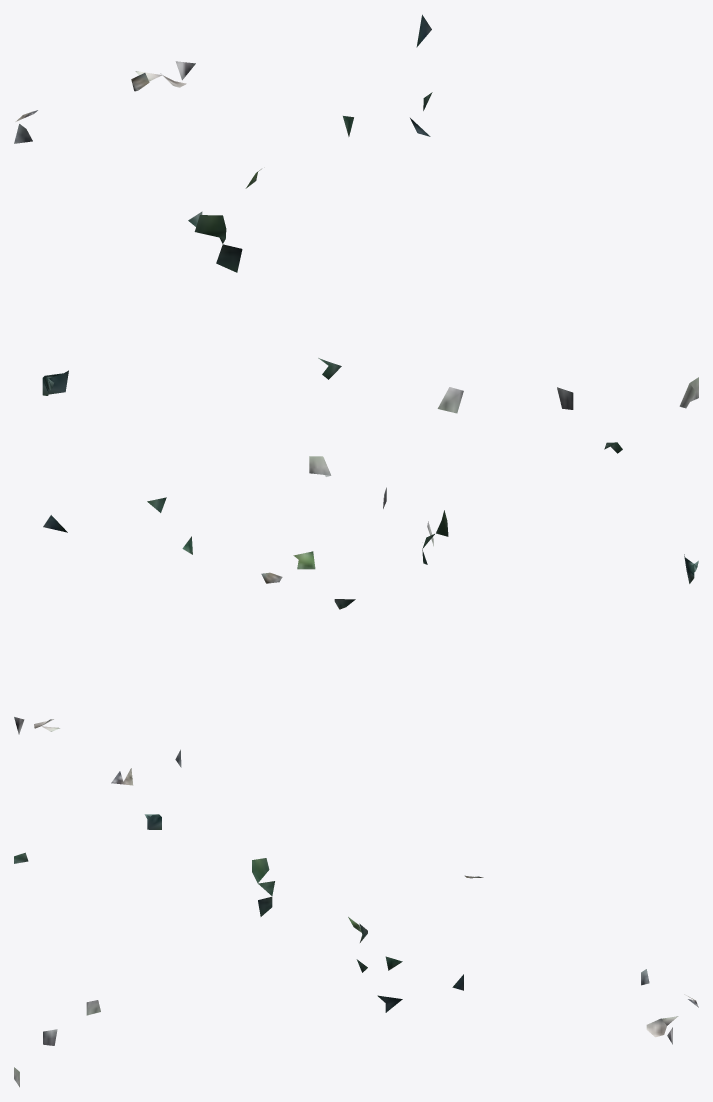
The picture shows the model from 3 angles, top to bottom: view 1: azimuth 30°, elevation 25°; view 2: azimuth 150°, elevation 25°; view 3: azimuth 270°, elevation 25°; orthographic projection. The views are drawn at different scales.
Parts seen in each view (by area): view 1: 30436272704370426501_1; view 2: 30436272704370426501_1; view 3: 30436272704370426501_1.
Part boxes in pixels (left/top/right/bottom): 30436272704370426501_1: left=14, top=14, right=698, bottom=413; 30436272704370426501_1: left=14, top=442, right=698, bottom=785; 30436272704370426501_1: left=14, top=814, right=698, bottom=1087.
Bounding box in the file's own units: 27.15 × 7.24 × 36.41.
Materials: 1 (1 with a texture image).
